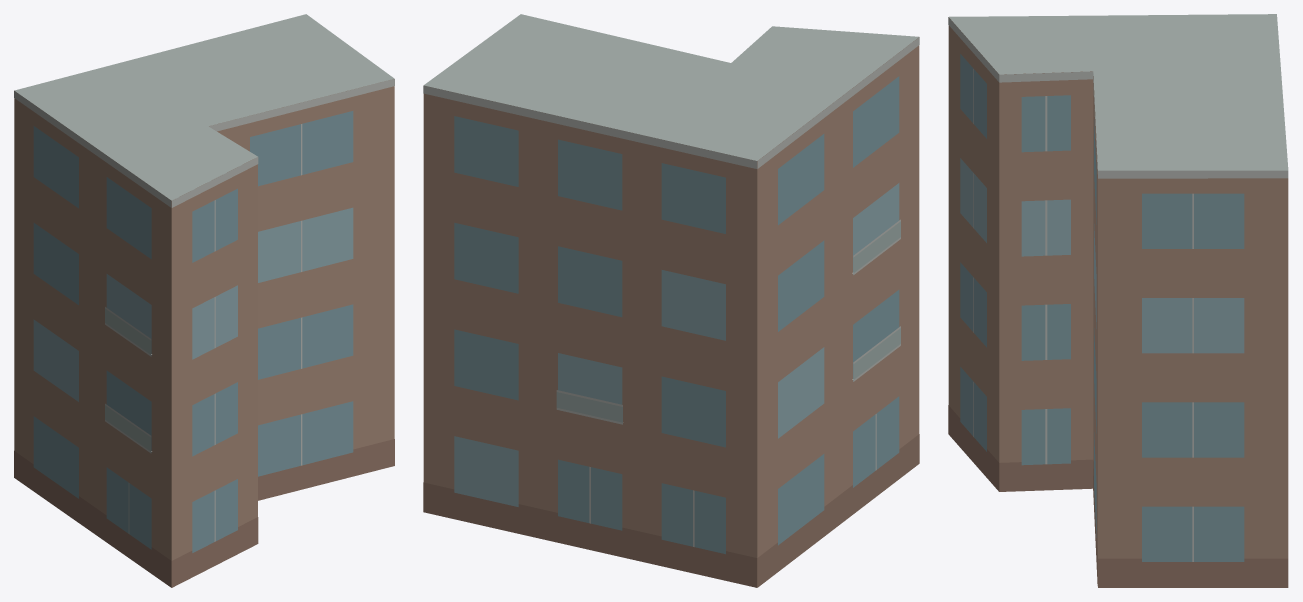
File: survey-upis-32474957.glb
3 renders of one model, left to right at view 1: azimuth 30°, elevation 25°; view 2: azimuth 150°, elevation 25°; view 3: azimuth 270°, elevation 25°, orthographic. The views are drawn at different scales.
Visible parts, largest first — view 1: survey-upis-32474957.tmp; view 2: survey-upis-32474957.tmp; view 3: survey-upis-32474957.tmp.
Boxes of the visible parts, x1,y1,x2,y2 form: survey-upis-32474957.tmp: (14,14,394,587); survey-upis-32474957.tmp: (423,14,919,587); survey-upis-32474957.tmp: (948,14,1288,587).
Bounding box in the file's own units: 10.31 × 12.8 × 9.46.
